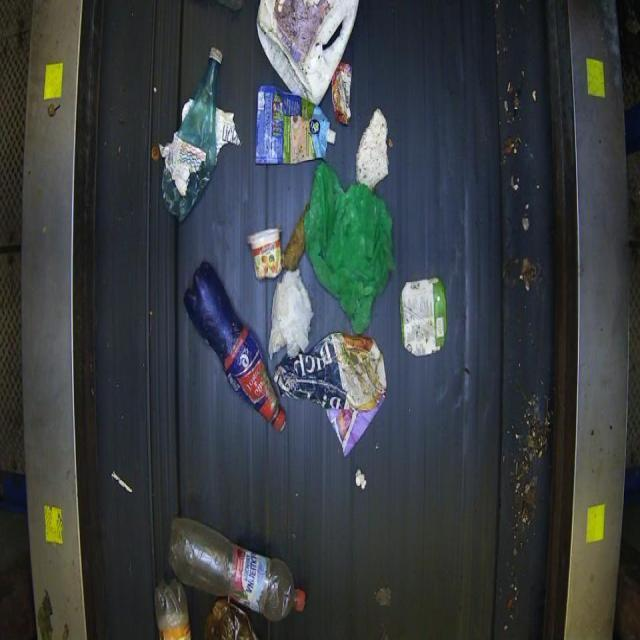bottles: (182, 260, 287, 432)
cups: (166, 515, 306, 622), (246, 227, 282, 279)
plastic-waste: (297, 160, 418, 335)
